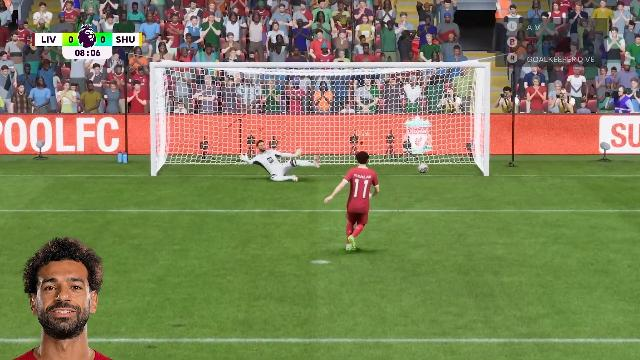football: (417, 162, 431, 172)
goal-bottom-left: (157, 121, 260, 180)
goal-bottom-right: (374, 120, 484, 172)
goal-middle-down: (262, 120, 372, 178)
goal-middle-up: (262, 68, 372, 120)
goal-top-left: (157, 68, 261, 120)
goal-top-right: (374, 68, 484, 119)
goalkeeper: (239, 140, 321, 182)
player: (329, 154, 388, 254)
